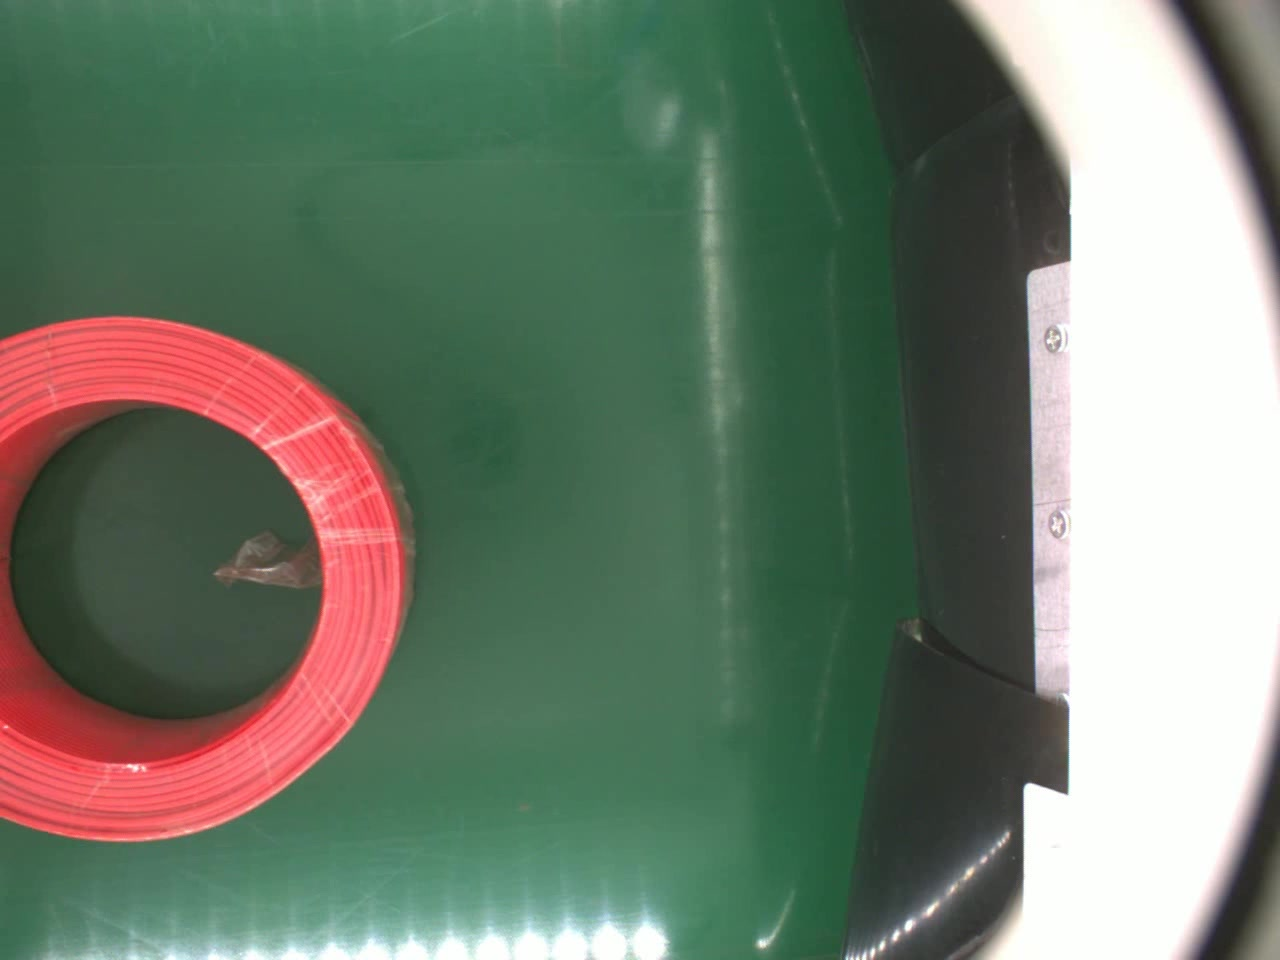red: (0, 311, 425, 848)
